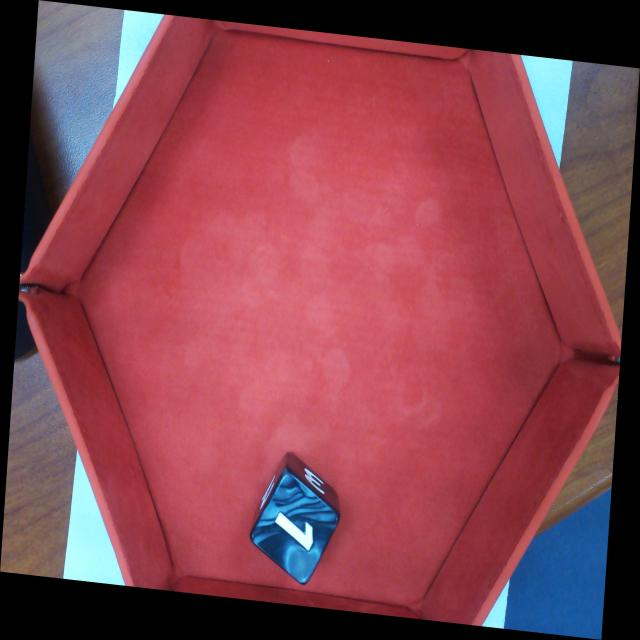dice: (249, 470, 341, 587)
